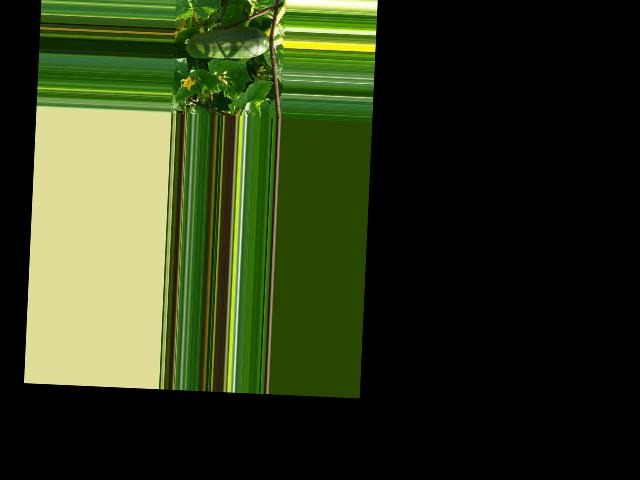cucumber: (185, 22, 269, 61)
